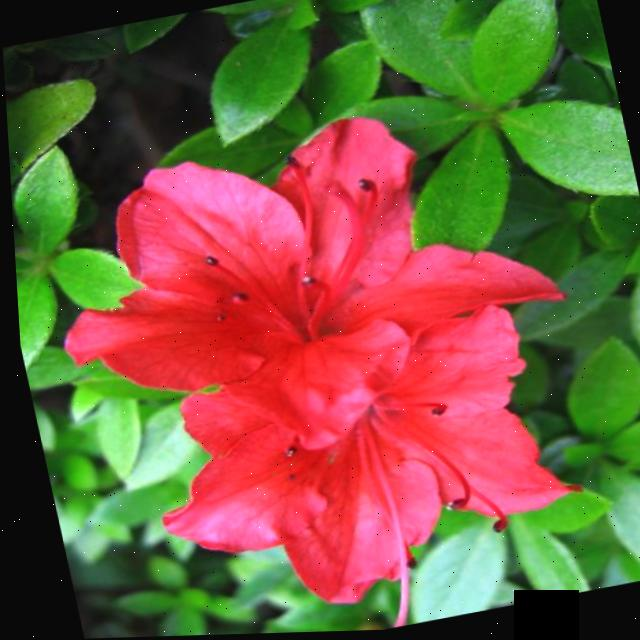azalea: (48, 111, 571, 628)
